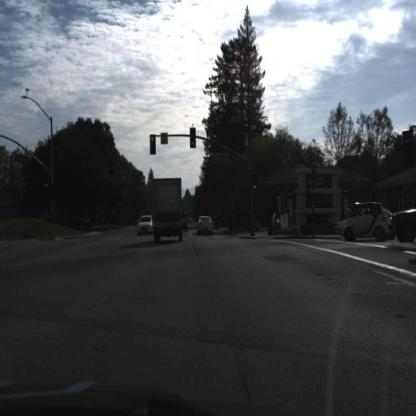car: (342, 201, 389, 244), (392, 206, 416, 248), (196, 213, 217, 238), (137, 213, 155, 236), (334, 218, 348, 239)
trafficLight-Green: (191, 130, 197, 148), (252, 177, 258, 191)
trafficLight-RedLeft: (150, 135, 156, 157), (45, 182, 50, 198)
truck: (153, 176, 185, 245)
